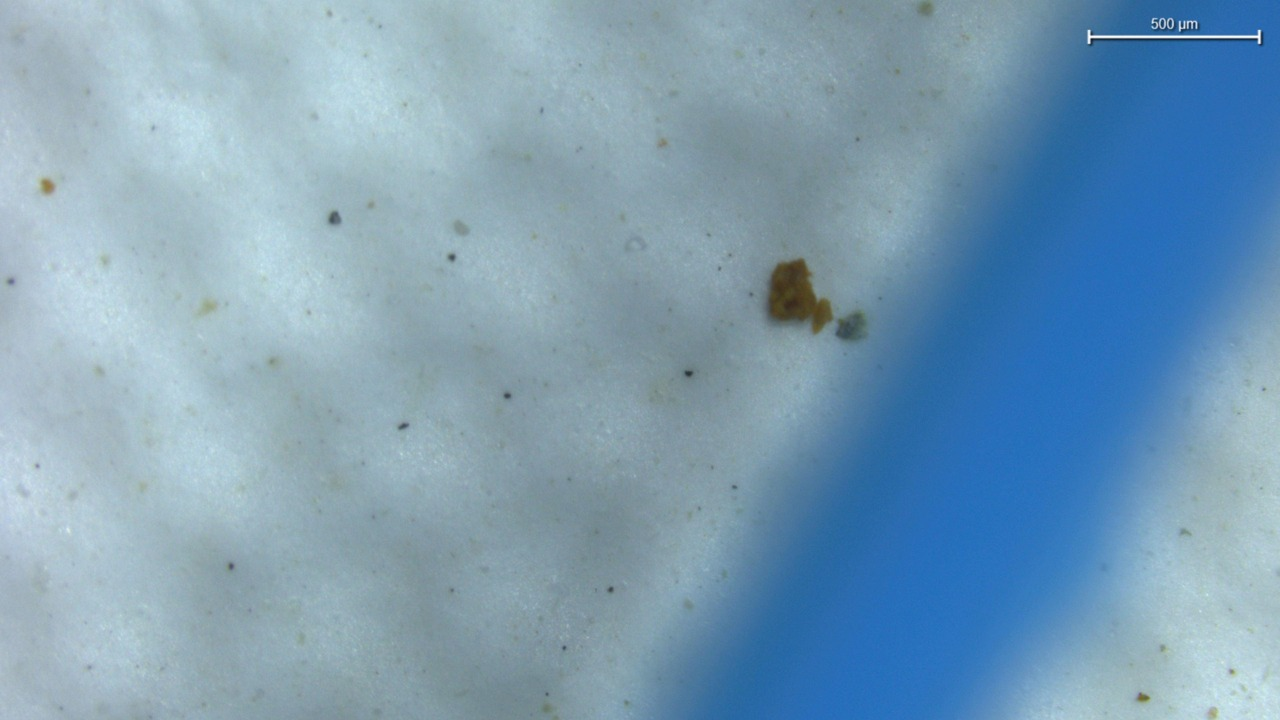microplastic_fragment: (768, 258, 833, 333)
